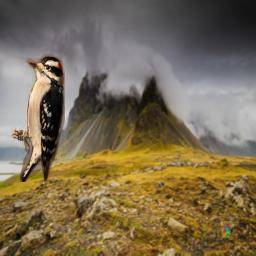Woodpecker: (11, 52, 65, 182)
